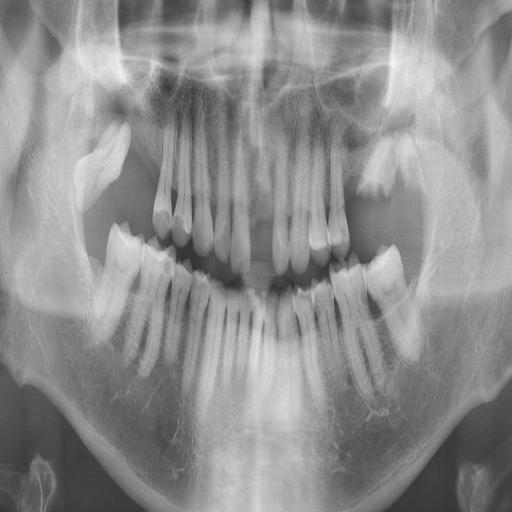Wisdom teeth: (74, 122, 130, 212)
